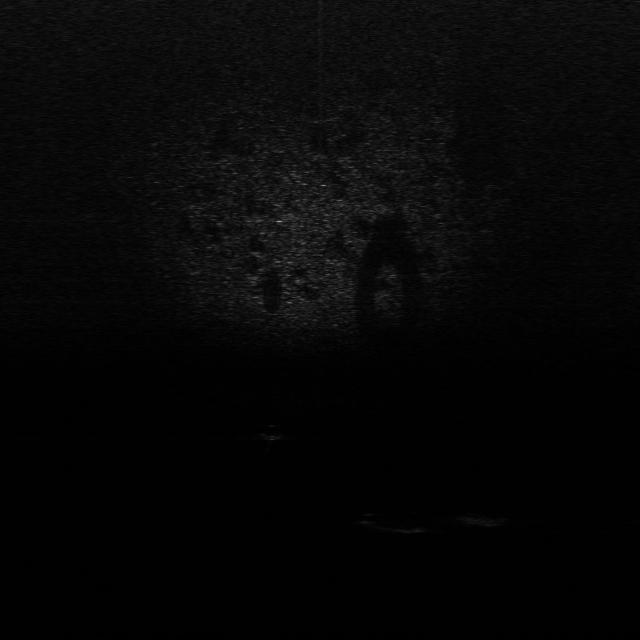ball: (257, 421, 289, 441)
metal bucket: (459, 508, 512, 531)
tyre: (360, 509, 430, 534)
